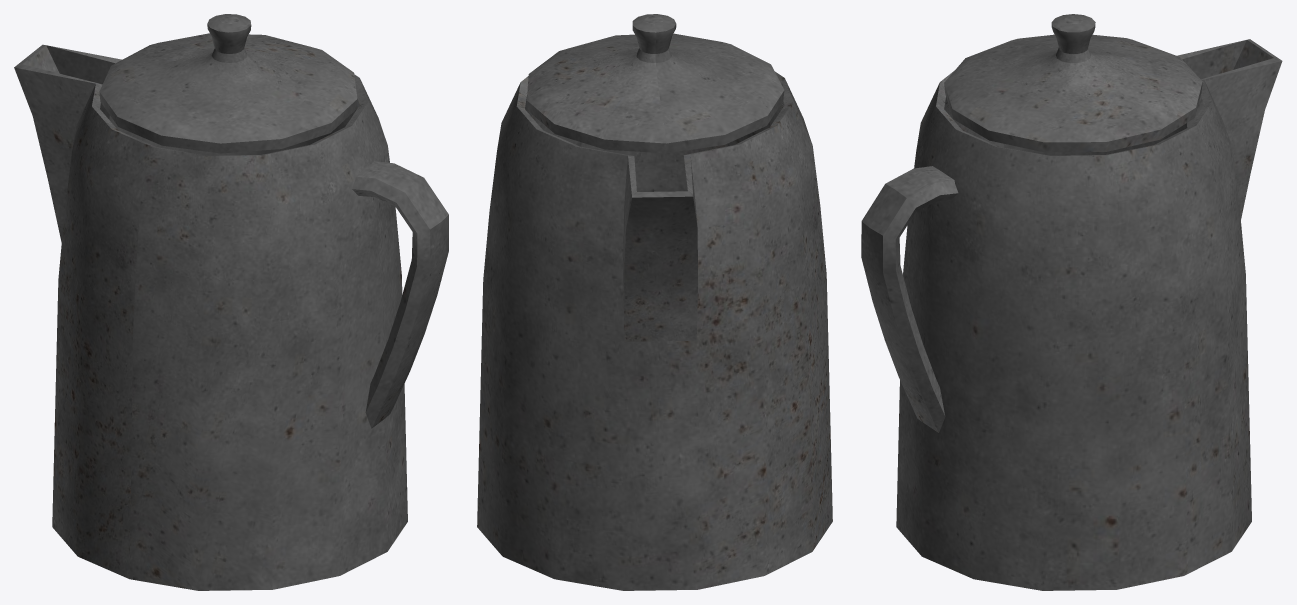
File: Kettle.fbx
3 renders of one model, left to right at view 1: azimuth 30°, elevation 25°; view 2: azimuth 150°, elevation 25°; view 3: azimuth 270°, elevation 25°, orthographic.
Visible parts, largest first — view 1: Kettle; view 2: Kettle; view 3: Kettle.
Boxes of the visible parts, x1,y1,x2,y2 form: Kettle: [14, 14, 448, 590]; Kettle: [477, 14, 832, 590]; Kettle: [861, 14, 1282, 590].
Bounding box in the file's own units: 19.99 × 31.17 × 23.7.
1 material, 1 textured.
